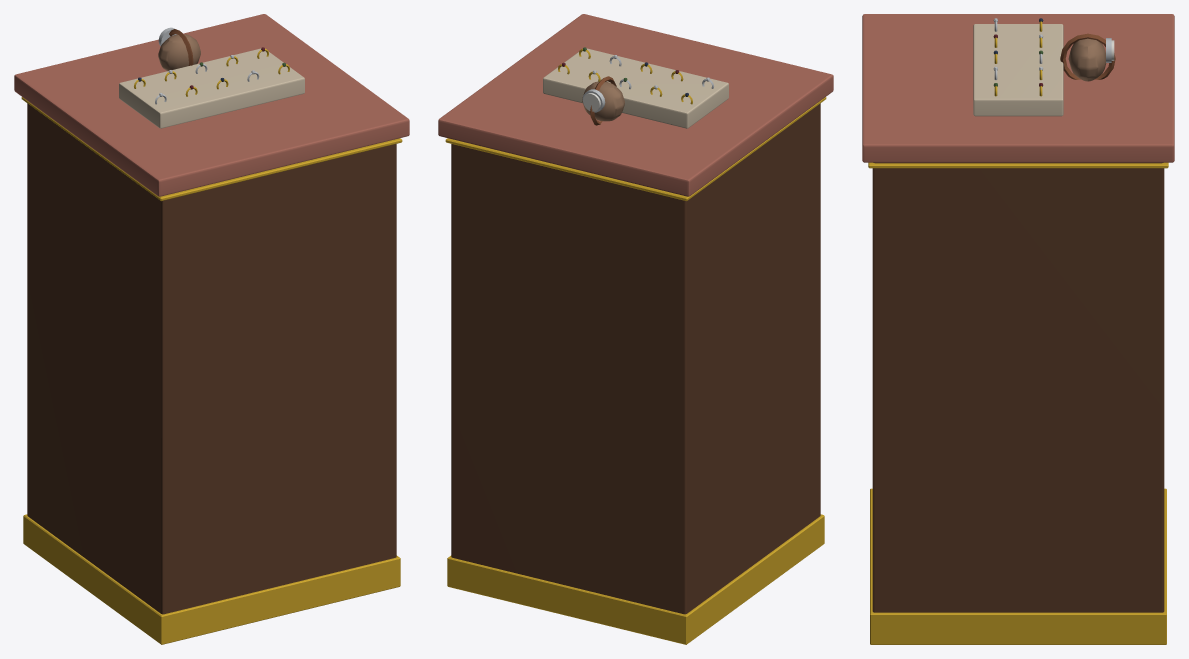
The model's file is prop_podium_tray.glb.
The picture shows the model from 3 angles, left to right: view 1: azimuth 30°, elevation 25°; view 2: azimuth 150°, elevation 25°; view 3: azimuth 270°, elevation 25°; orthographic projection. The views are drawn at different scales.
Visible parts, largest first — view 1: Podium; view 2: Podium; view 3: Podium.
Boxes of the visible parts, box(x1,y1,x2,y2) form: Podium: box(14, 14, 409, 644); Podium: box(438, 14, 833, 644); Podium: box(862, 14, 1174, 644).
Size of what is drawn, in the model's own units: 0.45 by 0.872 by 0.45.
